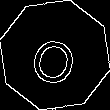O_N: (28, 25, 82, 85)
